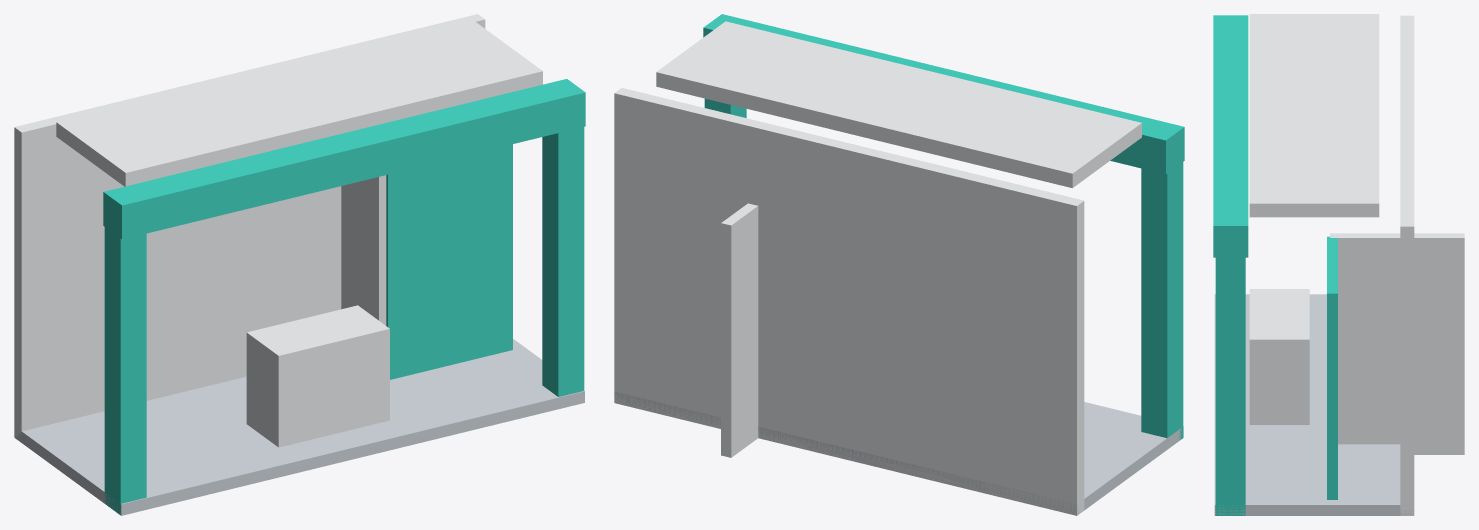
The picture shows the model from 3 angles, left to right: view 1: azimuth 30°, elevation 25°; view 2: azimuth 150°, elevation 25°; view 3: azimuth 270°, elevation 25°; orthographic projection. The views are drawn at different scales.
Visible parts, largest first — view 1: Exhibition Booth Concept; view 2: Exhibition Booth Concept; view 3: Exhibition Booth Concept.
Boxes of the visible parts, x1,y1,x2,y2 form: Exhibition Booth Concept: (14, 14, 585, 515); Exhibition Booth Concept: (614, 14, 1184, 515); Exhibition Booth Concept: (1213, 14, 1464, 515).
Bounding box in the file's own units: 5 × 3.34 × 2.52.
